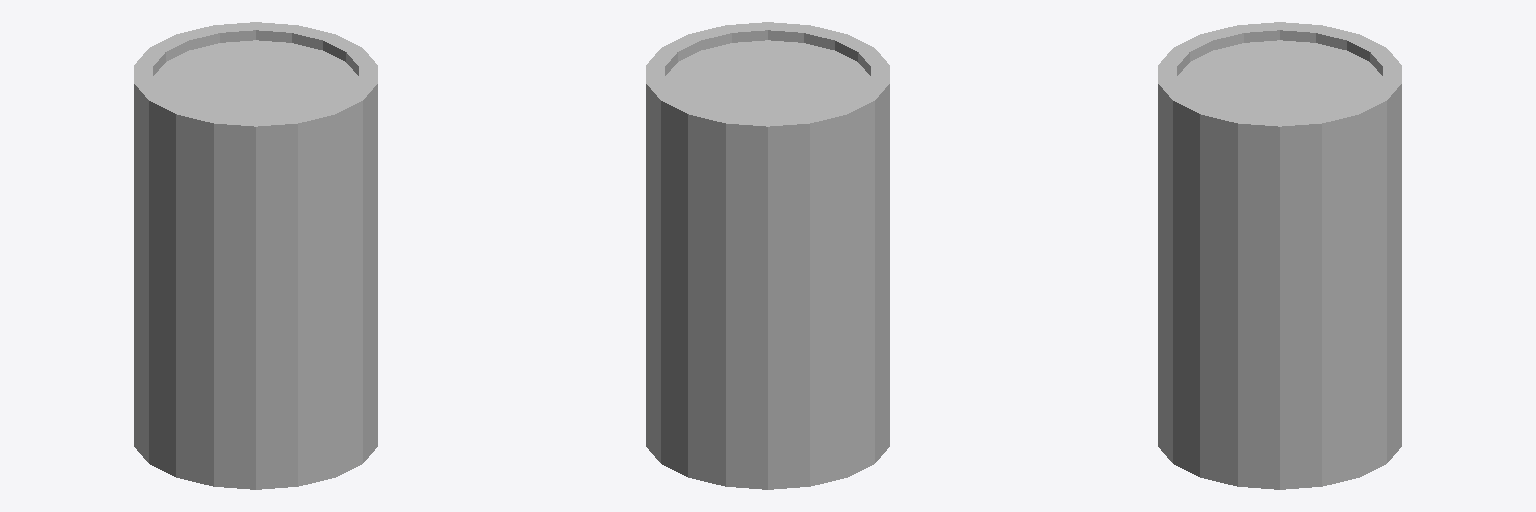
The model's file is barrel2.obj.
The picture shows the model from 3 angles: view 1: azimuth 30°, elevation 25°; view 2: azimuth 150°, elevation 25°; view 3: azimuth 270°, elevation 25°; orthographic projection.
Parts seen in each view (by area): view 1: Cylinder00; view 2: Cylinder00; view 3: Cylinder00.
Boxes of the visible parts, x1=… form: Cylinder00: x1=134, y1=22, x2=377, y2=489; Cylinder00: x1=646, y1=22, x2=889, y2=489; Cylinder00: x1=1158, y1=22, x2=1401, y2=489.
Size of the model in its own units: 29.16 by 47.24 by 28.72.